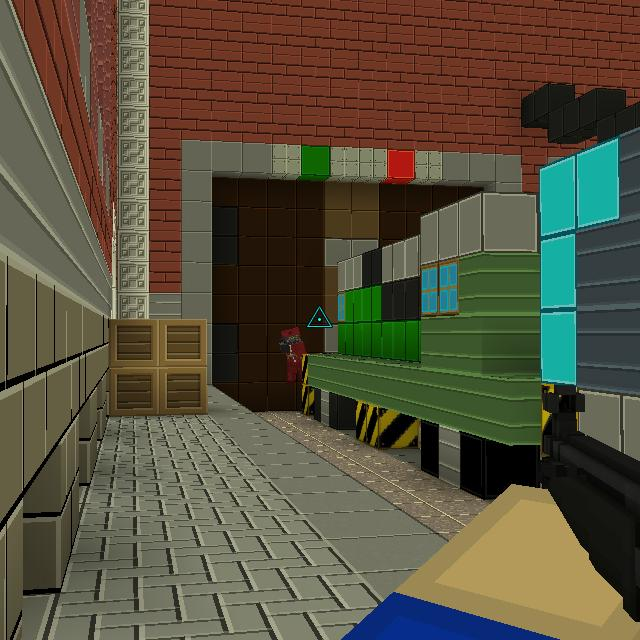enemy: (280, 325, 305, 385)
